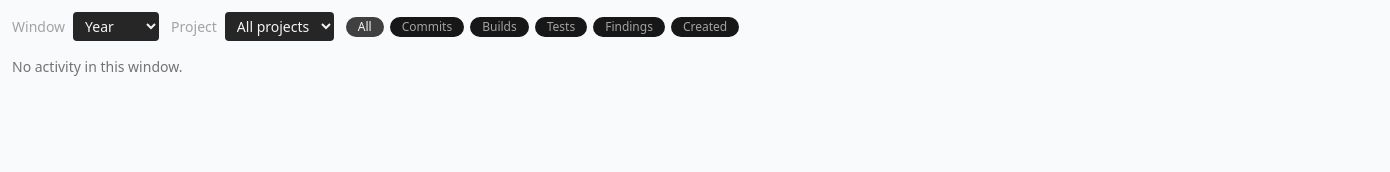
Test: ProjectTimeline › refetches when the window changes
Expected: the text "No activity in this window." is shown, [12,57,182,76]
Select "30 days" in the dropdown labelled "Window" at (116, 26), box [73,12,159,41]
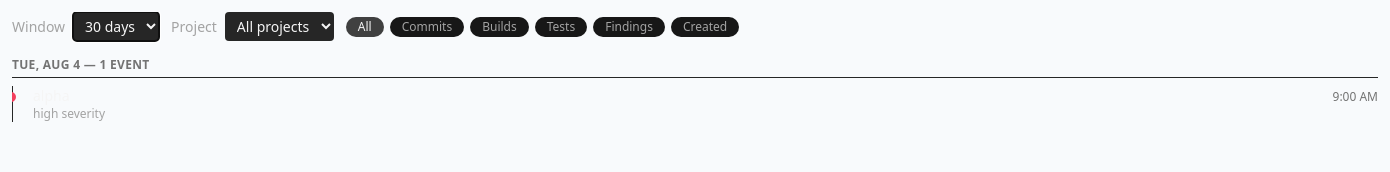
Expected: the text "high severity" is shown, [33,105,105,122]
